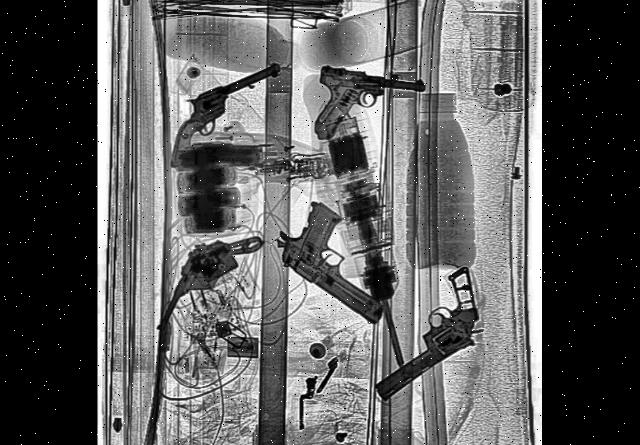Gun: (156, 186, 266, 378), (362, 260, 489, 408), (275, 182, 400, 331), (162, 60, 292, 173), (315, 60, 428, 156)
